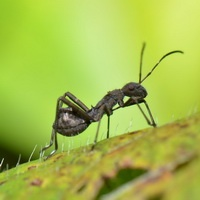insect: (41, 43, 182, 158)
